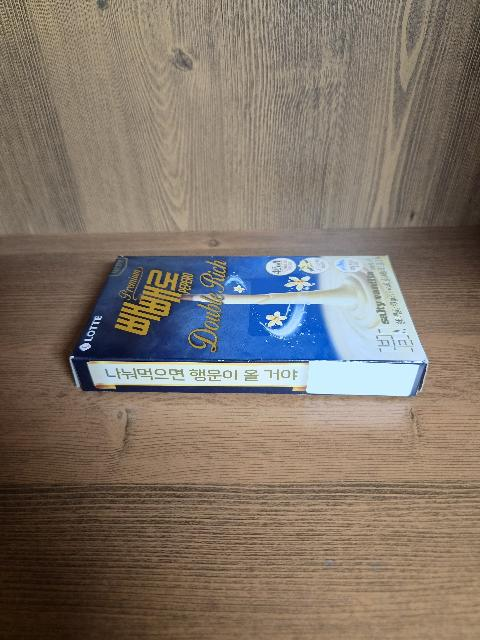pepero: (69, 254, 430, 397)
